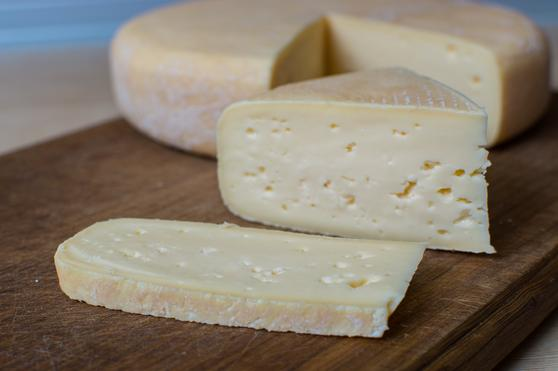cheese: (220, 67, 505, 266)
